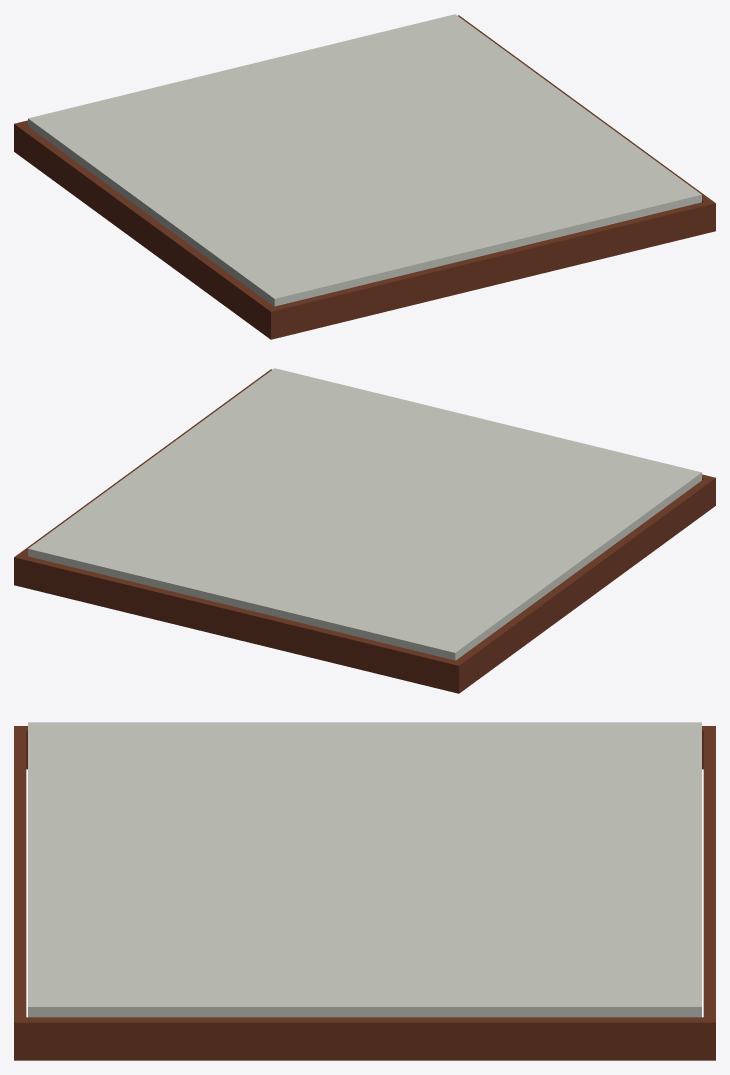
The model's file is RUIN_FLR_Tile_2x2.glb.
3 renders of one model, top to bottom at view 1: azimuth 30°, elevation 25°; view 2: azimuth 150°, elevation 25°; view 3: azimuth 270°, elevation 25°, orthographic. The views are drawn at different scales.
Parts seen in each view (by area): view 1: RUIN_FLR_Tile_2x2; view 2: RUIN_FLR_Tile_2x2; view 3: RUIN_FLR_Tile_2x2.
Part boxes in pixels (x1=…): RUIN_FLR_Tile_2x2: x1=14, y1=14, x2=715, y2=339; RUIN_FLR_Tile_2x2: x1=14, y1=368, x2=715, y2=693; RUIN_FLR_Tile_2x2: x1=14, y1=722, x2=715, y2=1060.
Size of the model in its own units: 2 by 0.15 by 2.
